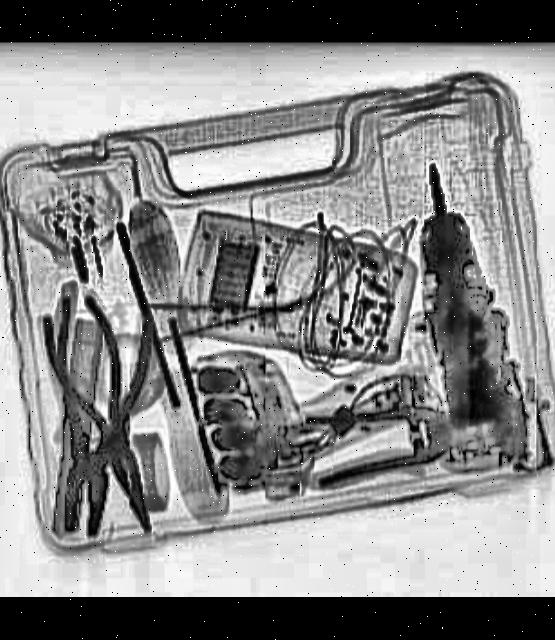Pliers: (33, 288, 186, 538), (36, 293, 161, 540), (306, 394, 462, 484)
